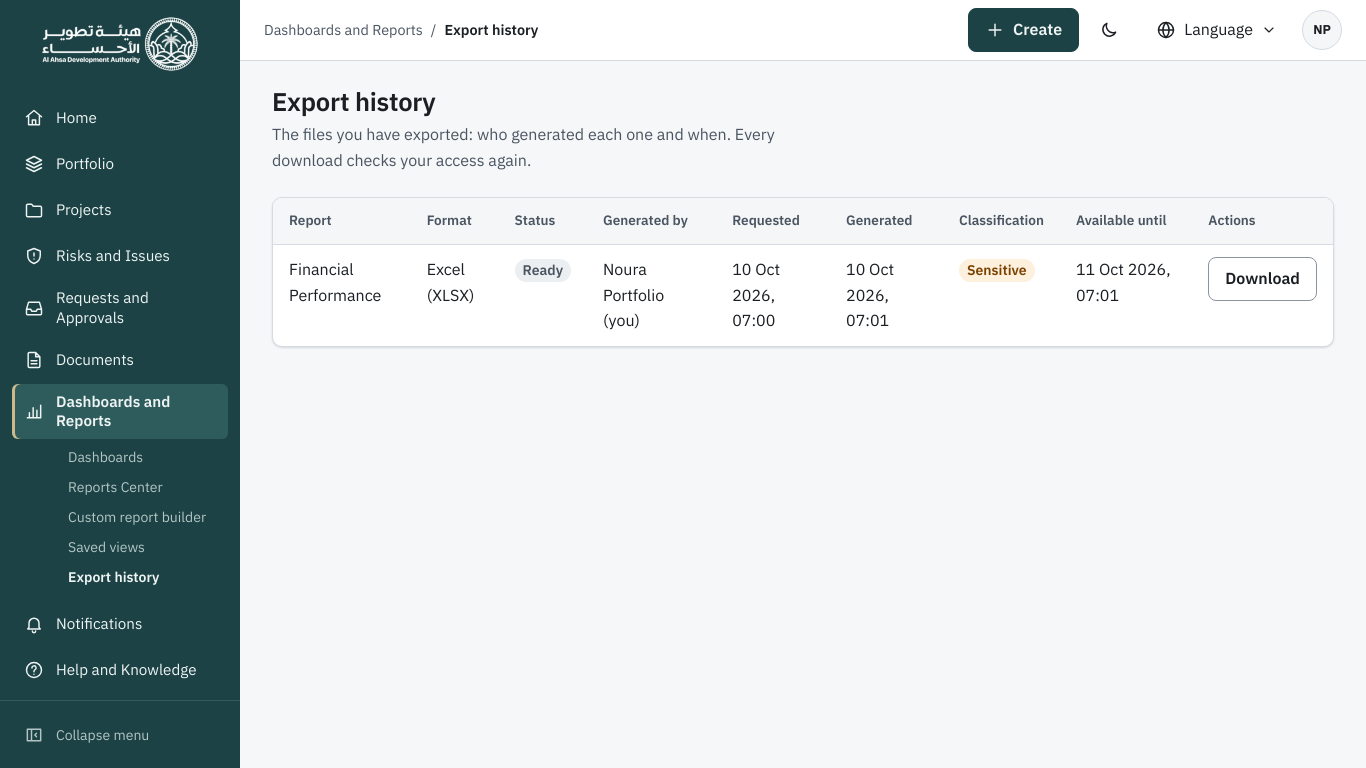
acceptance criterion 2: the export history shows who generated each output and when › a download is authorised again: a refusal says the person may no longer see what it holds
The width and height of the screenshot is (1366, 768).
Step 1. Click the button "Download" → (1263, 279), box [1208,257,1317,301]
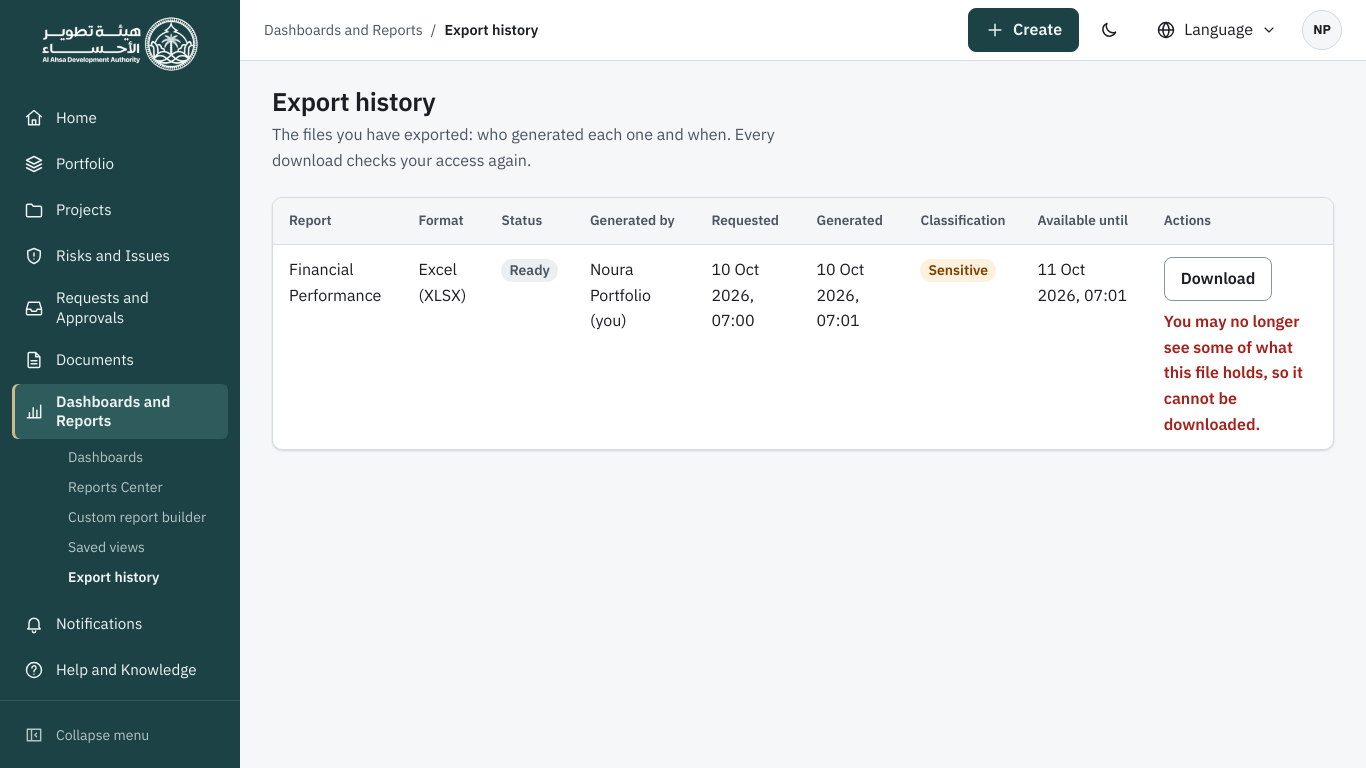
Expected: the message reads "You may no longer see some of what this file holds, so it cannot be downloaded.", [1164,311,1303,434]
